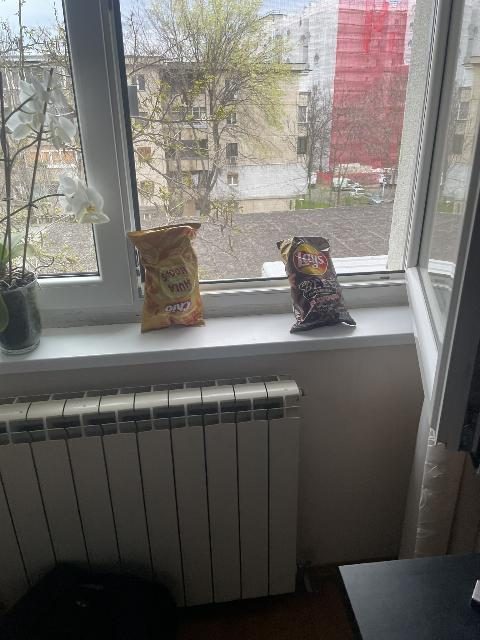Chio Hula Hoops Cheese 70g: (127, 224, 207, 331)
Lays Beef Grilled Ribs 125g: (279, 236, 356, 332)
